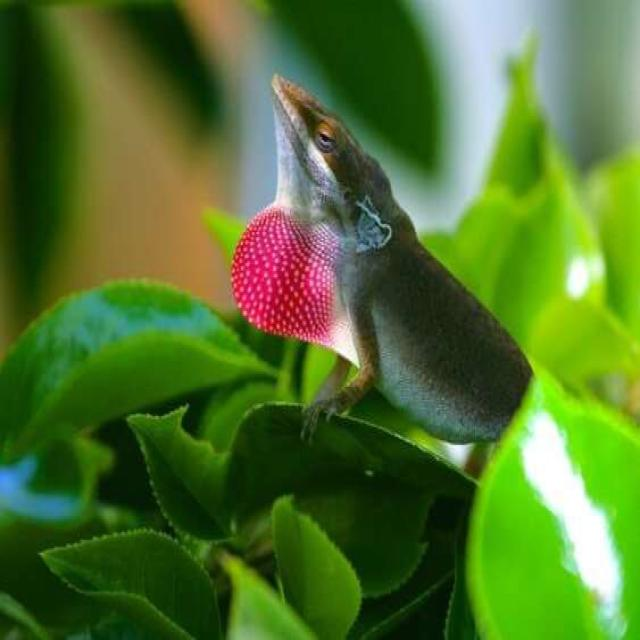Lizard: (232, 57, 544, 453)
